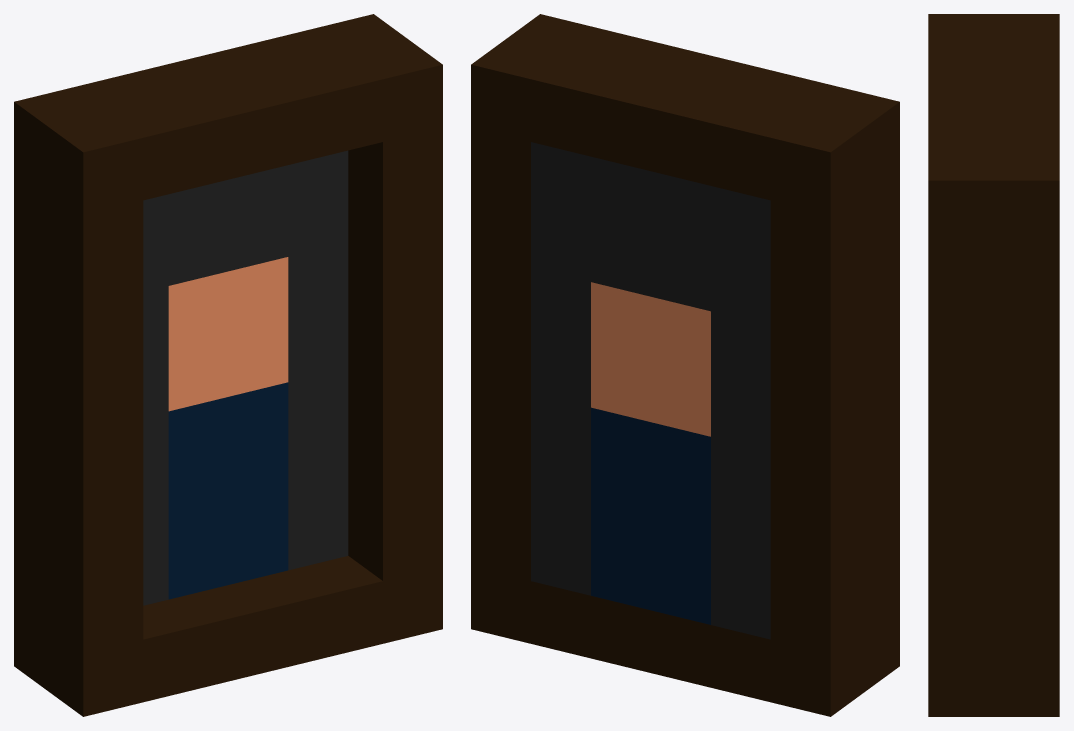
The model's file is quadro3.obj.
3 renders of one model, left to right at view 1: azimuth 30°, elevation 25°; view 2: azimuth 150°, elevation 25°; view 3: azimuth 270°, elevation 25°, orthographic. The views are drawn at different scales.
Parts seen in each view (by area): view 1: quadro3; view 2: quadro3; view 3: quadro3.
Boxes of the visible parts, x1,y1,x2,y2 form: quadro3: [14, 14, 442, 716]; quadro3: [471, 14, 899, 716]; quadro3: [928, 14, 1059, 716].
Bounding box in the file's own units: 6 × 9 × 2.
Materials: 1 (1 with a texture image).
